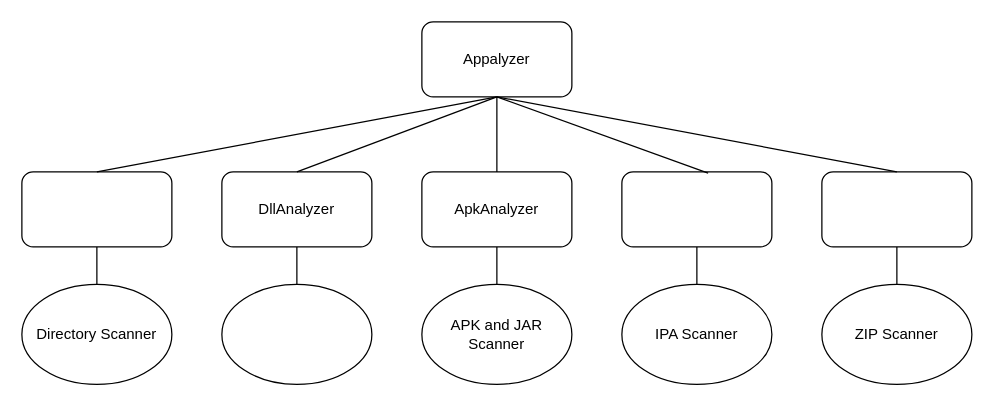
The diagram is 994 pixels wide and 406 high, and some of its shapes have lost their labels. Here are the shapes that lost their labels. From the top down, the box of each, then its label:
(21, 171, 172, 247): DirAnalyzer
(621, 171, 772, 247): IpaAnalyzer
(821, 171, 972, 247): ZipAnalyzer
(221, 283, 372, 384): .Net DLL Scanner
